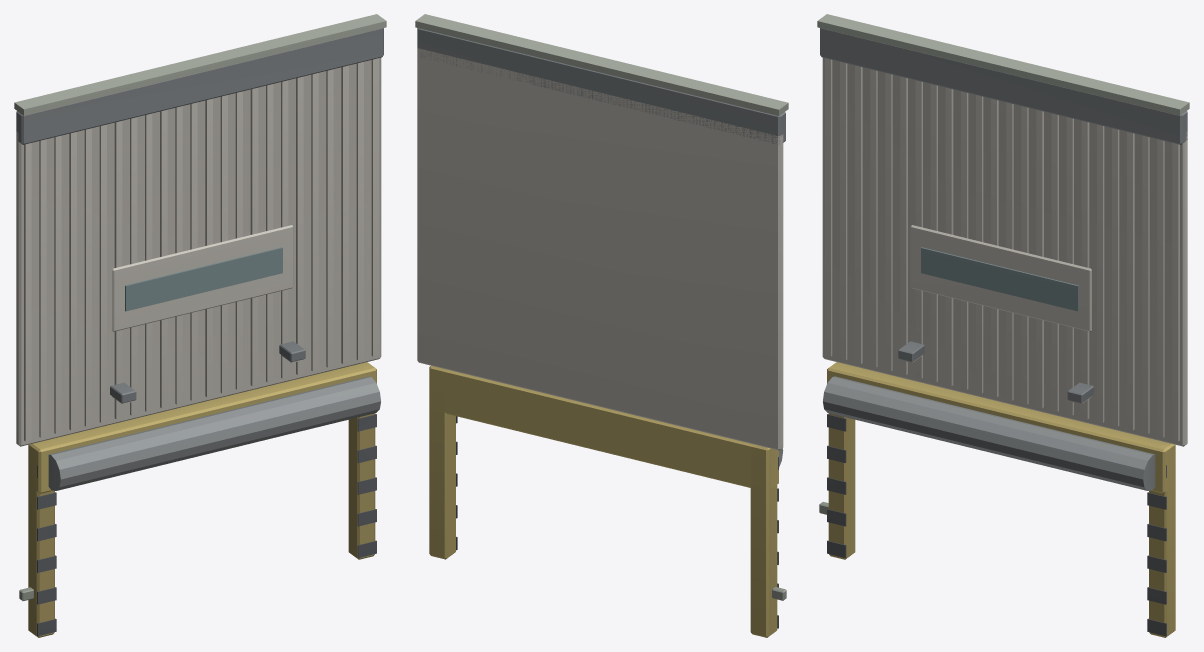
File: hangar_door.glb
3 views of the same model, side by side, from view 1: azimuth 30°, elevation 25°; view 2: azimuth 150°, elevation 25°; view 3: azimuth 330°, elevation 25° (orthographic).
Parts seen in each view (by area): view 1: hangar_door; view 2: hangar_door; view 3: hangar_door.
Part boxes in pixels (x1,y1,x2,y2): hangar_door: (14, 14, 386, 637); hangar_door: (415, 14, 788, 637); hangar_door: (817, 14, 1189, 637).
Bounding box in the file's own units: 12 × 16.8 × 1.45.
